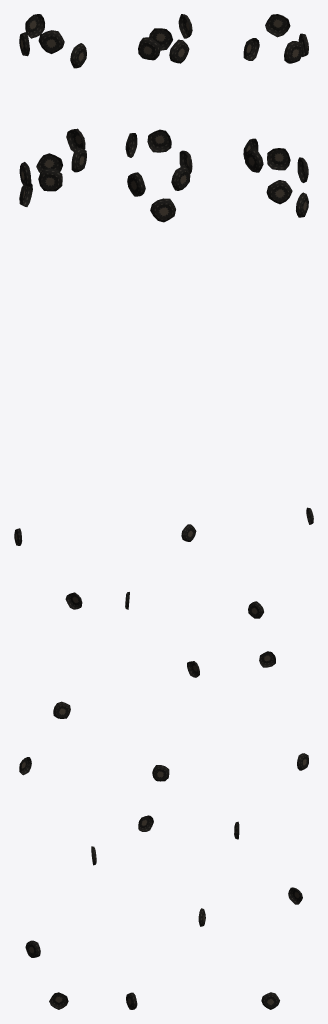
Rendered from Sitka_OldLarge_01_MediumPruned_Healed_LOD2.fbx.
The picture shows the model from 3 angles, left to right: view 1: azimuth 90°, elevation 25°; view 2: azimuth 210°, elevation 25°; view 3: azimuth 270°, elevation 25°; orthographic projection. The views are drawn at different scales.
Visible parts, largest first — view 1: Sitka_OldLarge_01_MediumPruned_Healed_LOD2_Scars; view 2: Sitka_OldLarge_01_MediumPruned_Healed_LOD2_Scars; view 3: Sitka_OldLarge_01_MediumPruned_Healed_LOD2_Scars.
Part boxes in pixels (x1,y1,x2,y2): Sitka_OldLarge_01_MediumPruned_Healed_LOD2_Scars: [14, 14, 96, 1009]; Sitka_OldLarge_01_MediumPruned_Healed_LOD2_Scars: [125, 14, 205, 1009]; Sitka_OldLarge_01_MediumPruned_Healed_LOD2_Scars: [234, 14, 313, 1009].
Size of what is drawn, in the model's own units: 59.96 by 799 by 59.38.
Materials: 2 (2 with a texture image).
